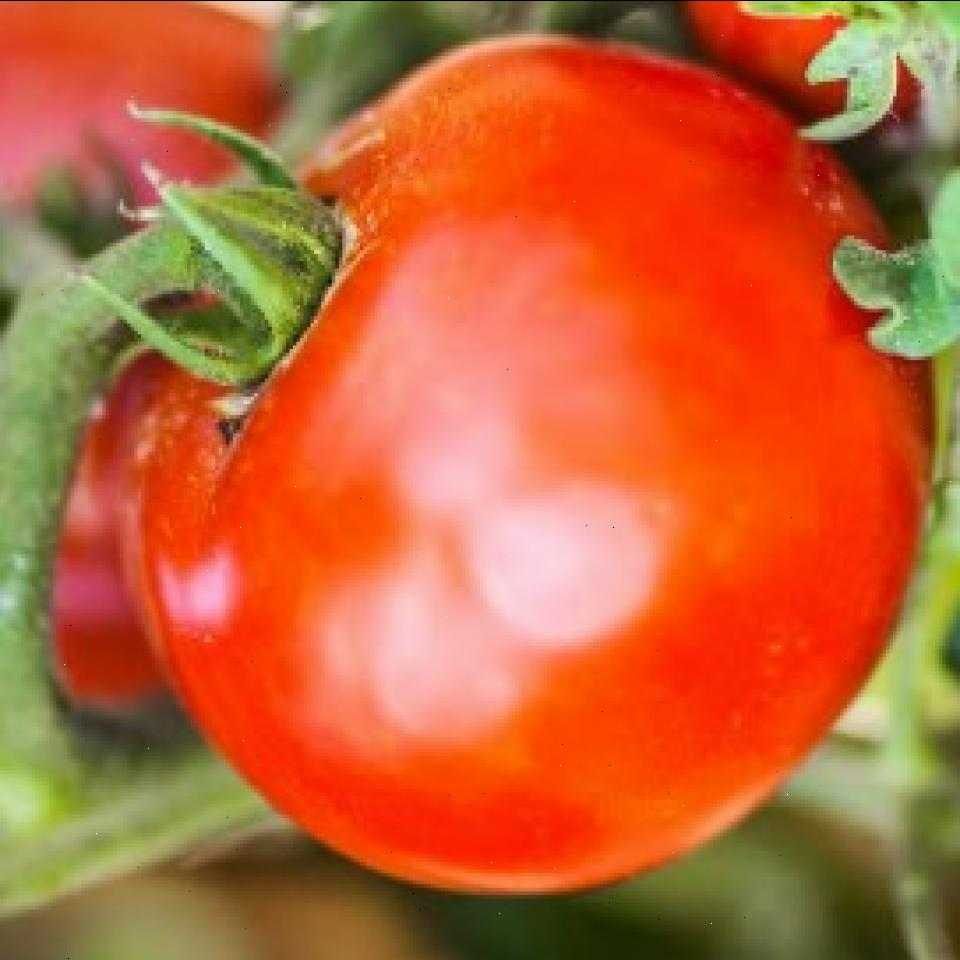Healthy: (143, 27, 862, 890)
